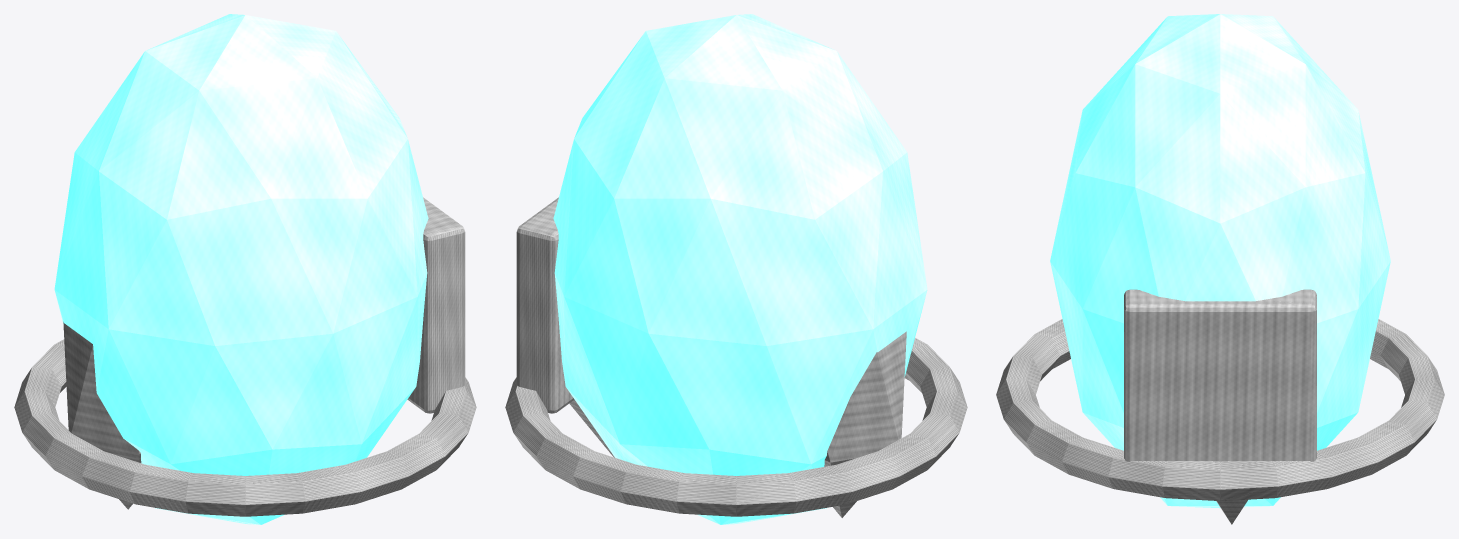
Rendered from item-diamonds_variant_b.glb.
The picture shows the model from 3 angles, left to right: view 1: azimuth 30°, elevation 25°; view 2: azimuth 150°, elevation 25°; view 3: azimuth 270°, elevation 25°; orthographic projection. The views are drawn at different scales.
Visible parts, largest first — view 1: Faceted crystal.002, Crystal containment ring.002, Variant reinforcement, Crystal shard.003; view 2: Faceted crystal.002, Crystal containment ring.002, Variant reinforcement, Crystal shard.003; view 3: Faceted crystal.002, Variant reinforcement, Crystal containment ring.002.
Boxes of the visible parts, x1=… form: Faceted crystal.002: x1=54, y1=14, x2=428, y2=524; Crystal containment ring.002: x1=14, y1=339, x2=476, y2=516; Variant reinforcement: x1=407, y1=197, x2=465, y2=413; Crystal shard.003: x1=63, y1=322, x2=141, y2=509; Faceted crystal.002: x1=553, y1=14, x2=927, y2=524; Crystal containment ring.002: x1=505, y1=338, x2=967, y2=516; Variant reinforcement: x1=516, y1=197, x2=574, y2=413; Crystal shard.003: x1=824, y1=331, x2=906, y2=517; Faceted crystal.002: x1=1050, y1=14, x2=1390, y2=508; Variant reinforcement: x1=1124, y1=289, x2=1316, y2=461; Crystal containment ring.002: x1=996, y1=319, x2=1444, y2=501.
Size of what is drawn, in the model's own units: 0.79 by 0.96 by 0.79.
4 materials, 4 textured.
